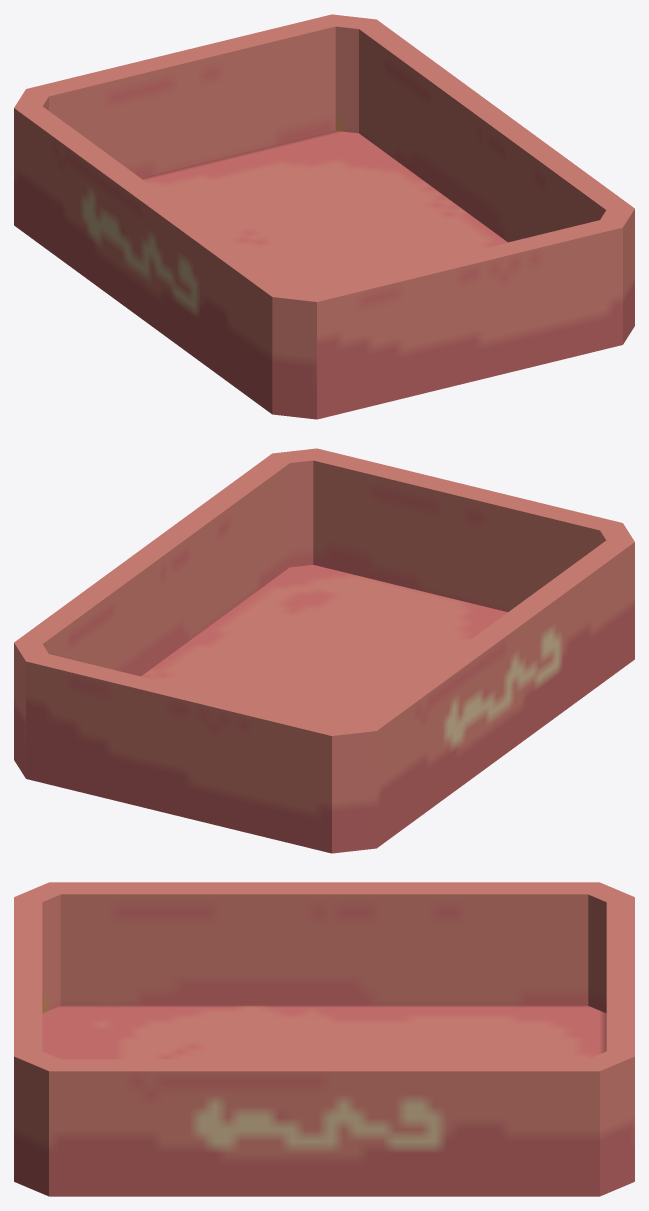
File: Pixel_Misc_S_001.fbx
The picture shows the model from 3 angles, top to bottom: view 1: azimuth 30°, elevation 25°; view 2: azimuth 150°, elevation 25°; view 3: azimuth 270°, elevation 25°; orthographic projection. The views are drawn at different scales.
Visible parts, largest first — view 1: Pixel_Misc_S_001; view 2: Pixel_Misc_S_001; view 3: Pixel_Misc_S_001.
Boxes of the visible parts, <box> form: Pixel_Misc_S_001: <box>14,14,634,419</box>; Pixel_Misc_S_001: <box>14,448,634,853</box>; Pixel_Misc_S_001: <box>14,882,634,1196</box>.
Bounding box in the file's own units: 56.67 × 17.54 × 78.78.
